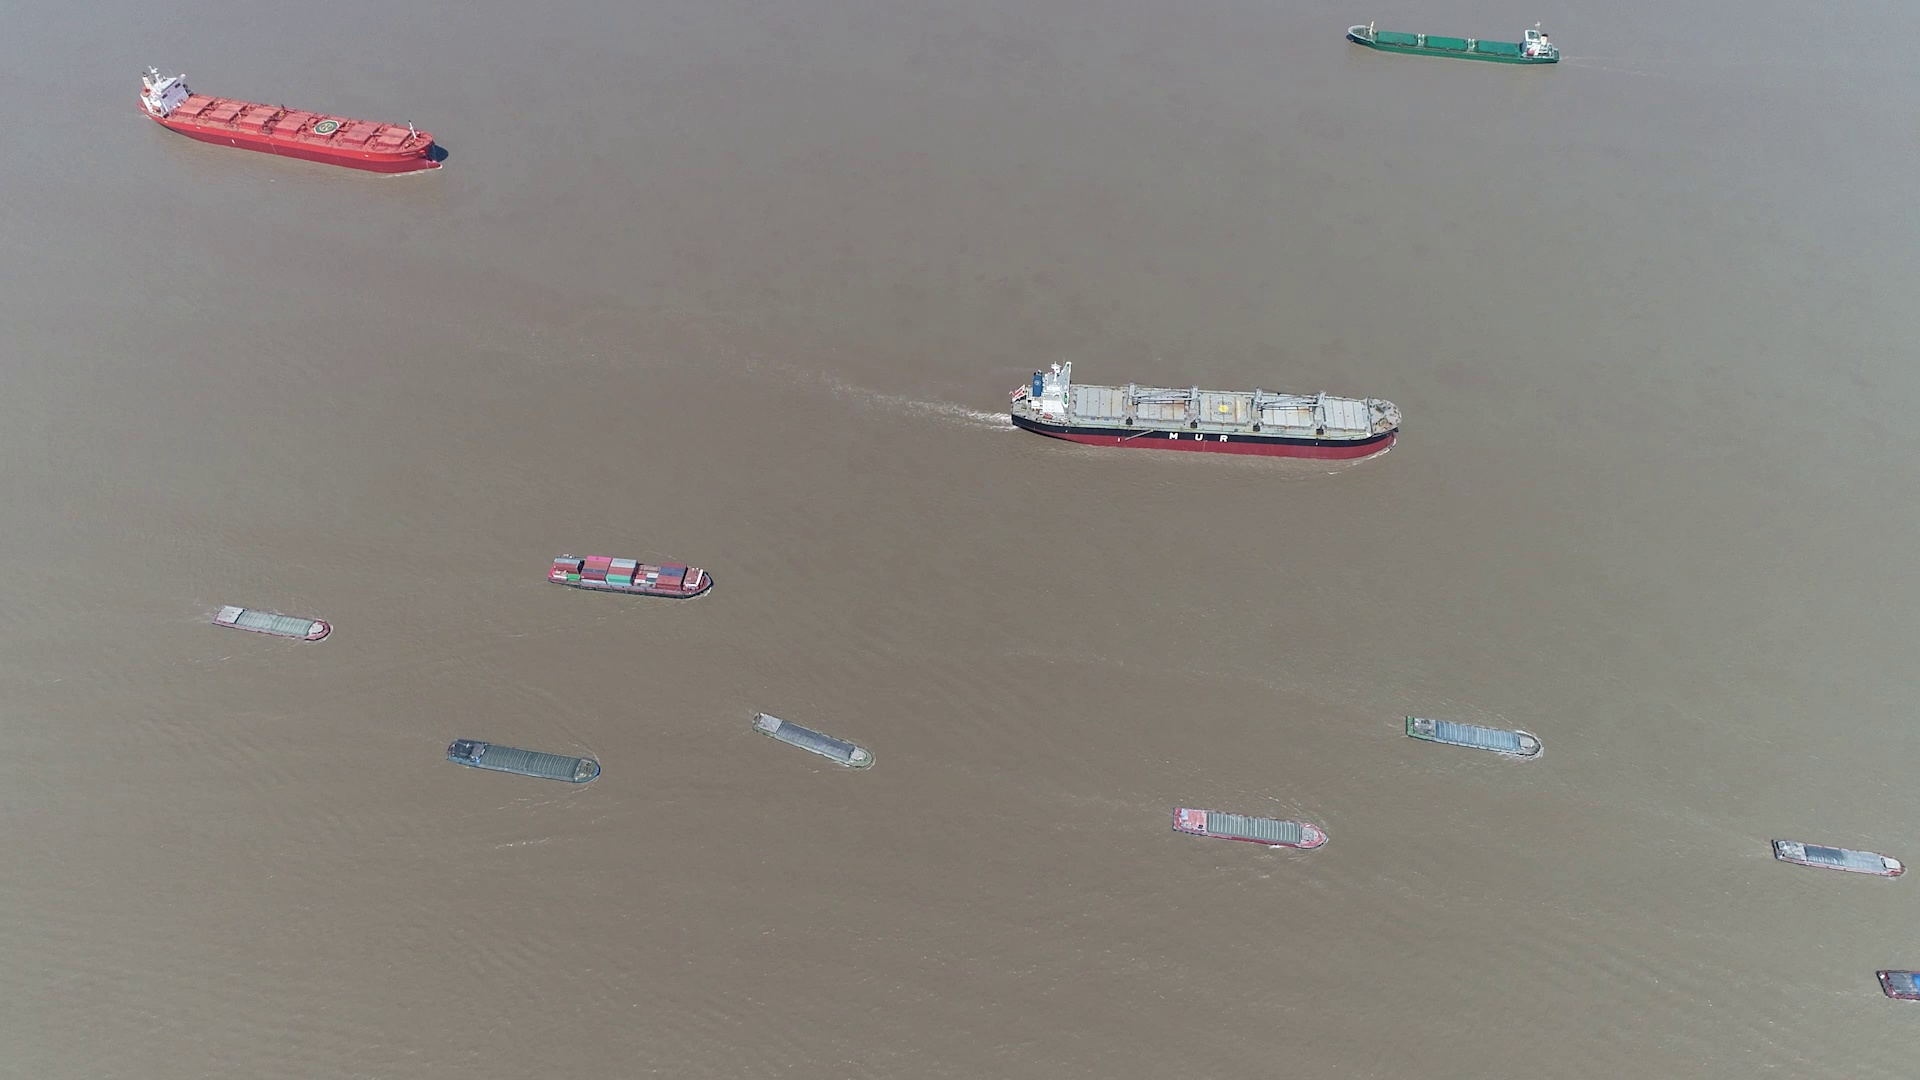ship: (1009, 364, 1402, 460), (142, 66, 444, 170), (1345, 22, 1561, 65), (547, 553, 713, 599), (447, 738, 603, 786), (756, 709, 873, 771), (1174, 808, 1327, 849), (1402, 717, 1544, 758), (1772, 837, 1904, 876), (211, 604, 330, 642), (1876, 967, 1919, 1001)
